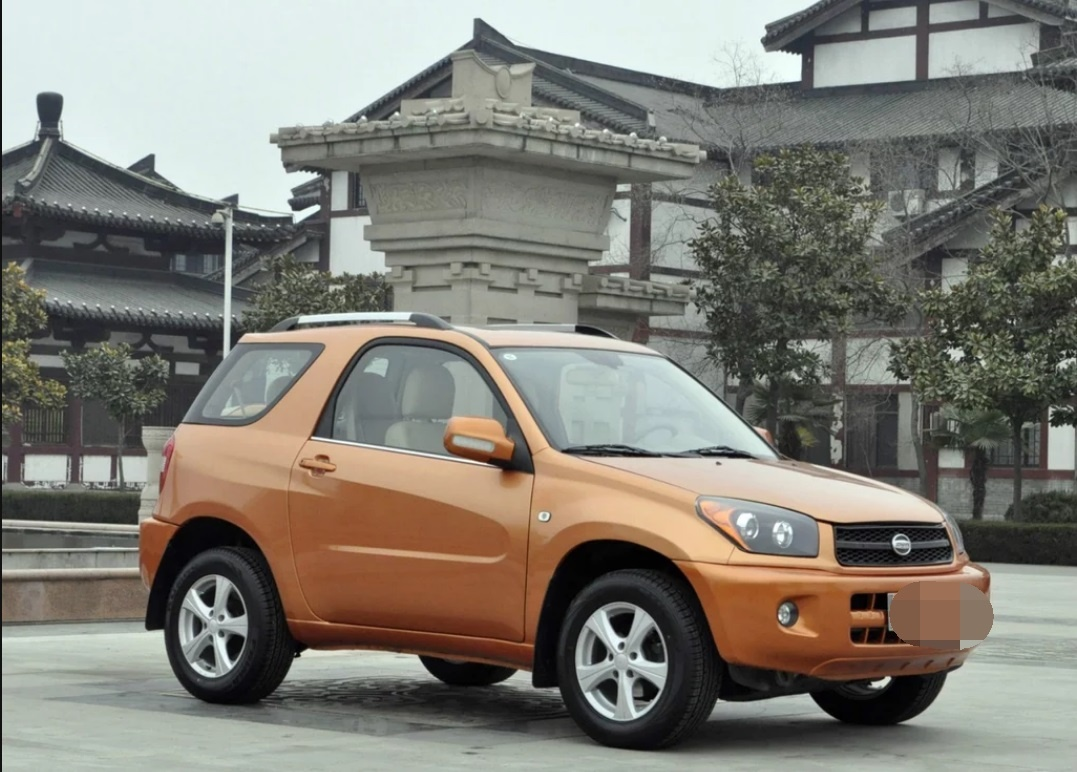SUV: (109, 310, 988, 738)
